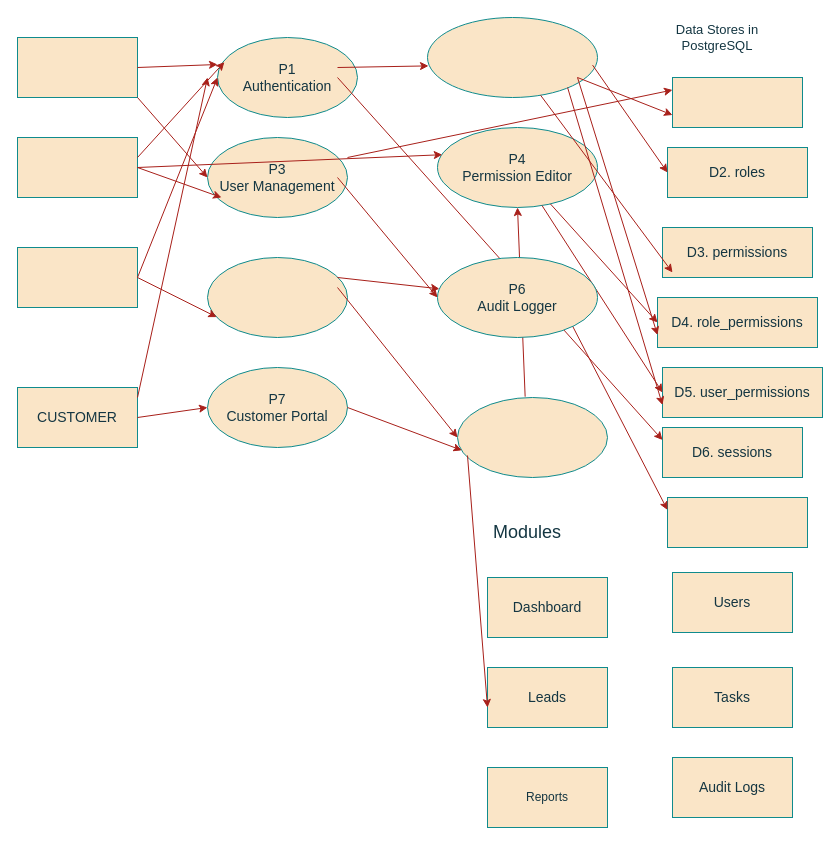
This 840x845 diagram has some shape labels left out. Each missing label, with the centre of its shape:
"ADMIN" belongs at pixel 77 67.
"AGENT" belongs at pixel 77 277.
"D1. Users" belongs at pixel 737 102.
"D7. audit_logs" belongs at pixel 737 522.
"MANAGER" belongs at pixel 77 167.
"P2 Permission Resolution" belongs at pixel 512 57.
"P5 Module Access" belongs at pixel 277 297.
"P8 Dynamic Routing" belongs at pixel 532 437.
